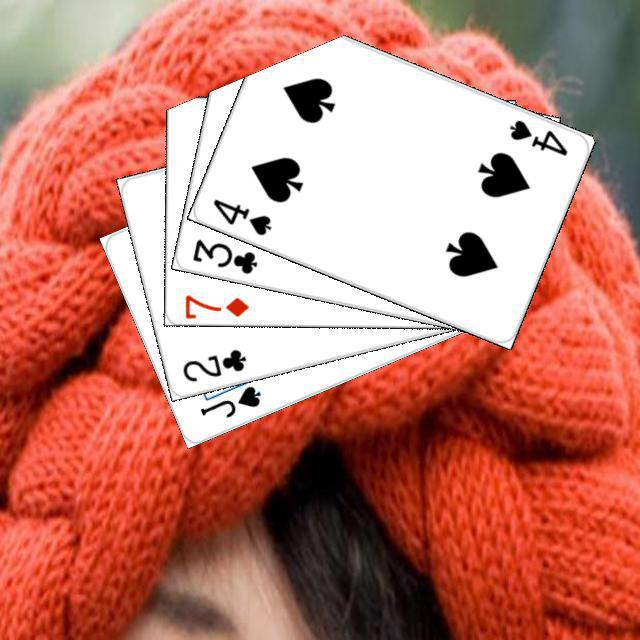2c: (177, 344, 248, 384)
3c: (187, 234, 260, 276)
4s: (208, 194, 273, 238), (504, 115, 570, 158)
7d: (180, 290, 251, 319)
Js: (195, 380, 263, 420)
